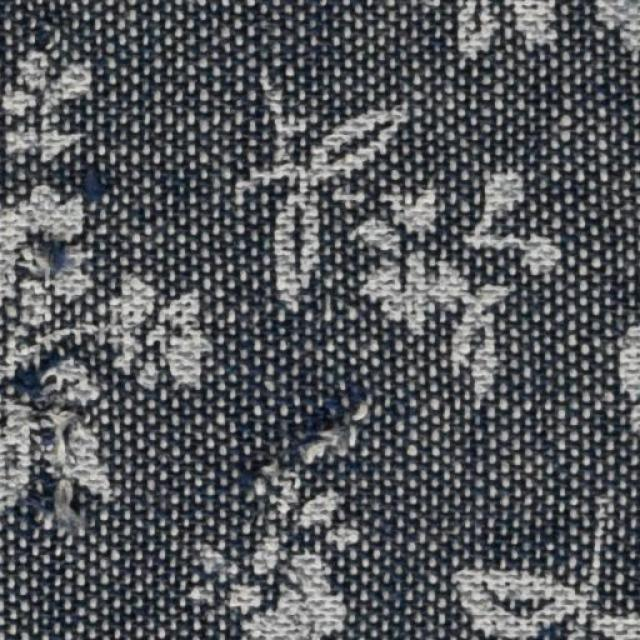Snag: (0, 346, 85, 538), (262, 396, 385, 511), (23, 243, 79, 295)
